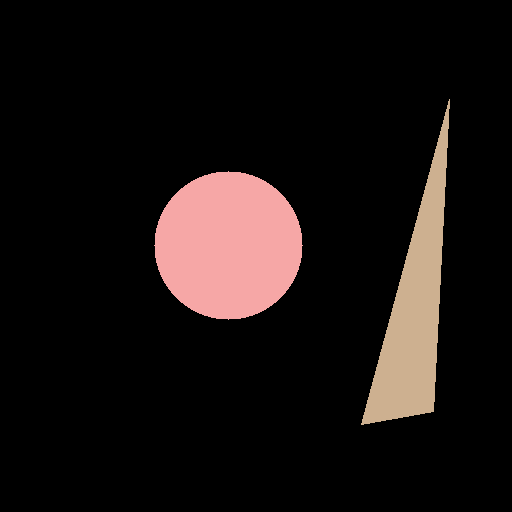circle: (154, 171, 302, 319)
triangle: (361, 99, 449, 424)
